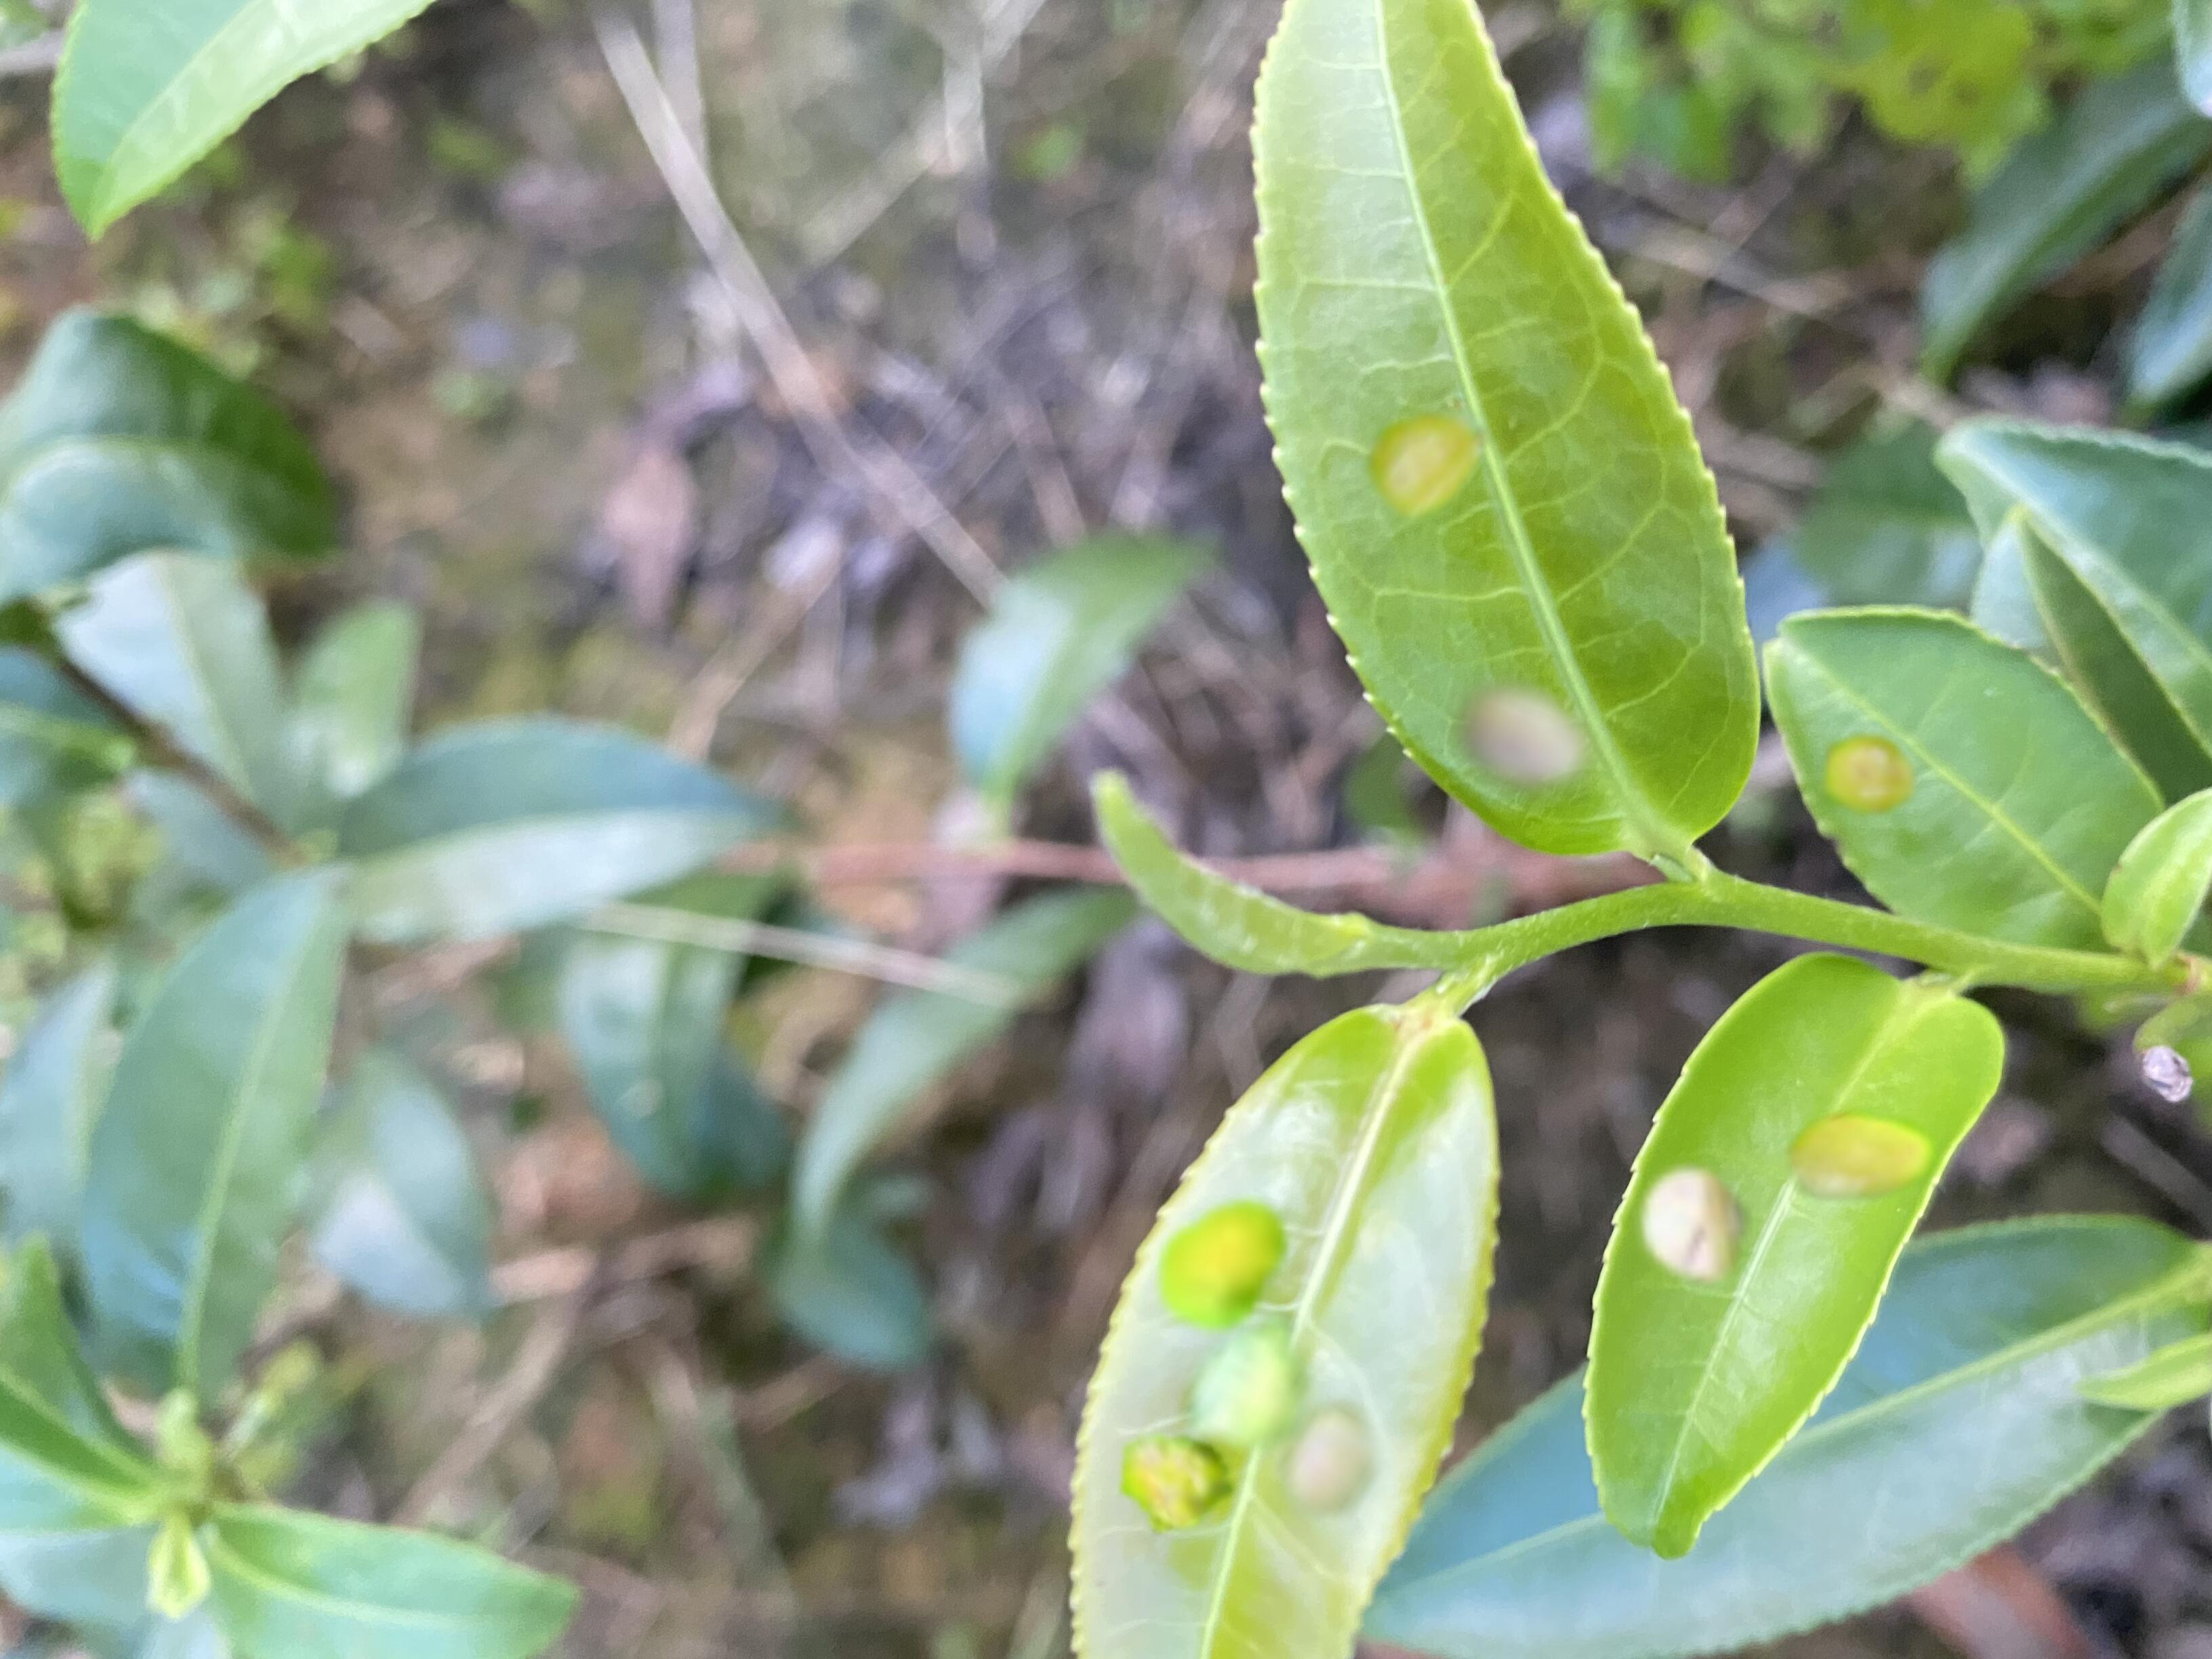chabing_high: (1247, 0, 1763, 859), (1062, 1000, 1503, 1656), (1581, 955, 2006, 1561)
chabing_low: (1764, 605, 2161, 951)
